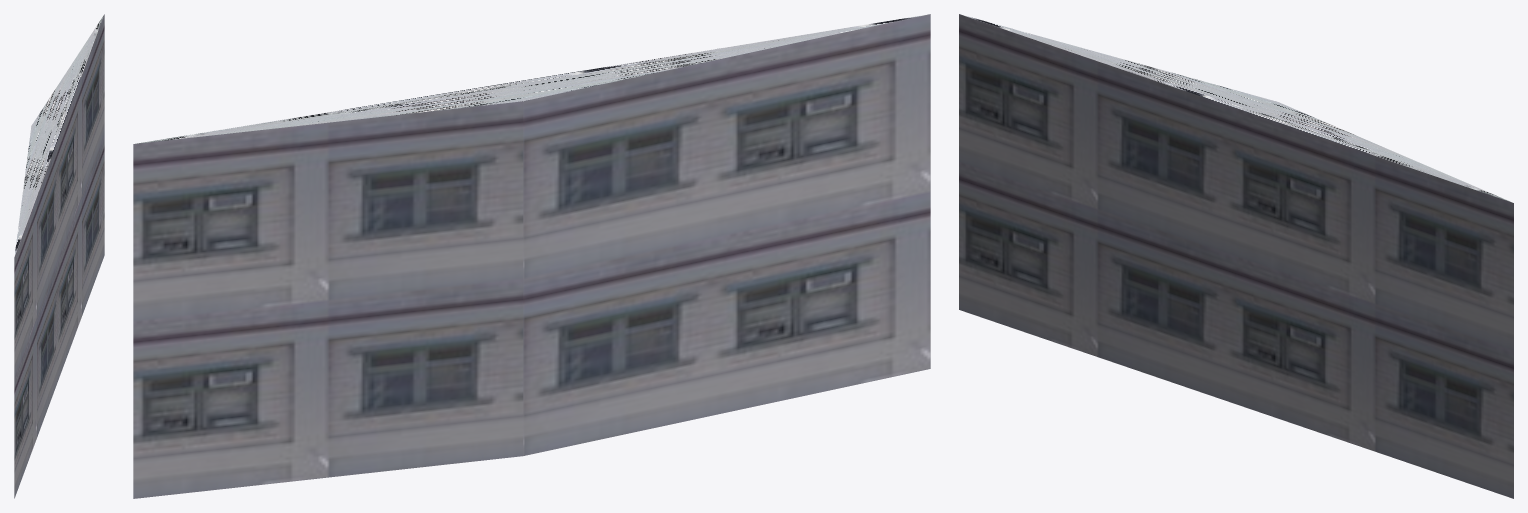
File: ResTex__5067.fbx
3 renders of one model, left to right at view 1: azimuth 30°, elevation 25°; view 2: azimuth 150°, elevation 25°; view 3: azimuth 270°, elevation 25°, orthographic. The views are drawn at different scales.
Parts seen in each view (by area): view 1: CityEngineMaterial_1_m, CityEngineMaterial_2_m; view 2: CityEngineMaterial_1_m, CityEngineMaterial_2_m; view 3: CityEngineMaterial_1_m, CityEngineMaterial_2_m.
Boxes of the visible parts, x1,y1,x2,y2 form: CityEngineMaterial_1_m: (14, 14, 104, 498); CityEngineMaterial_2_m: (14, 15, 103, 255); CityEngineMaterial_1_m: (133, 14, 930, 498); CityEngineMaterial_2_m: (135, 14, 926, 143); CityEngineMaterial_1_m: (959, 14, 1513, 498); CityEngineMaterial_2_m: (963, 15, 1511, 202).
Bounding box in the file's own units: 8.22 × 6 × 10.2.
Materials: 2 (2 with a texture image).
